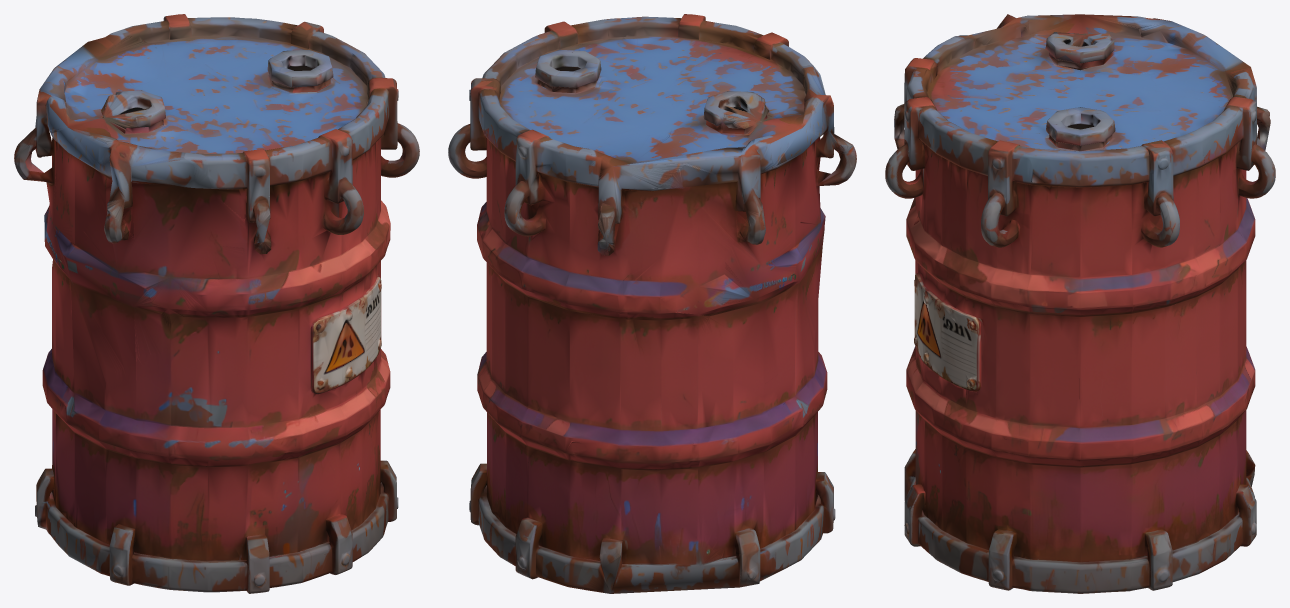
The model's file is MetalBarrel.fbx.
3 views of the same model, side by side, from view 1: azimuth 30°, elevation 25°; view 2: azimuth 150°, elevation 25°; view 3: azimuth 270°, elevation 25° (orthographic).
Parts seen in each view (by area): view 1: texture_pbr_v128; view 2: texture_pbr_v128; view 3: texture_pbr_v128.
Part boxes in pixels (bbox=[...]): texture_pbr_v128: bbox=[14, 14, 419, 593]; texture_pbr_v128: bbox=[448, 14, 856, 593]; texture_pbr_v128: bbox=[885, 14, 1275, 593].
Bounding box in the file's own units: 72.6 × 97.05 × 77.54.
Materials: 1 (1 with a texture image).
